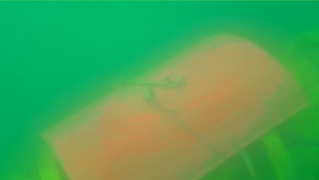leak: (41, 32, 311, 180)
pipe: (200, 29, 318, 180), (2, 149, 66, 180)
